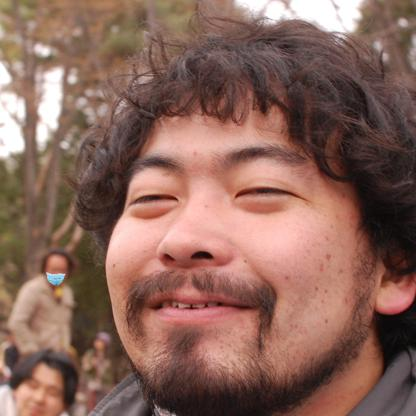mask: (45, 269, 67, 288)
